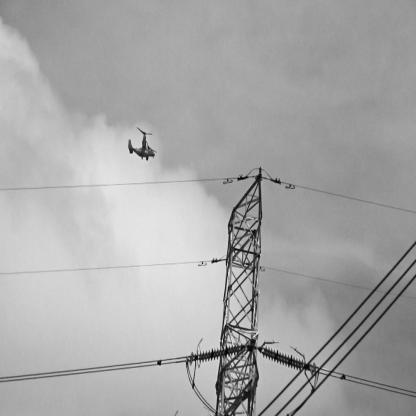V22: (129, 128, 158, 163)
